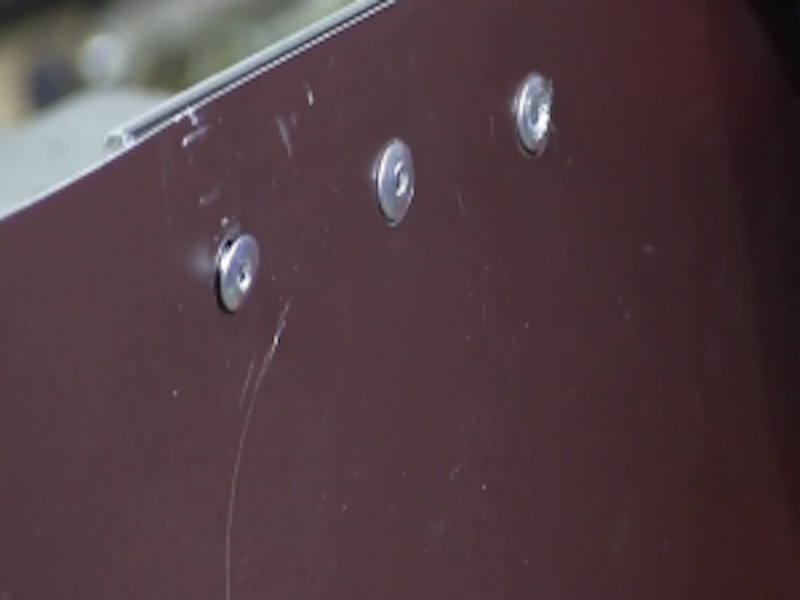rivet: (512, 70, 562, 162), (372, 136, 420, 230), (213, 233, 264, 314)
